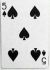five: (1, 1, 49, 68)
